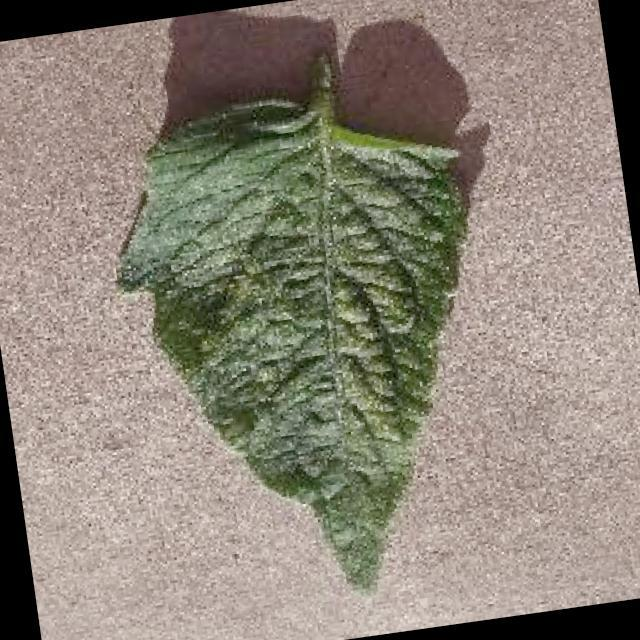Tomato spider mites leaf: (97, 71, 521, 624)
